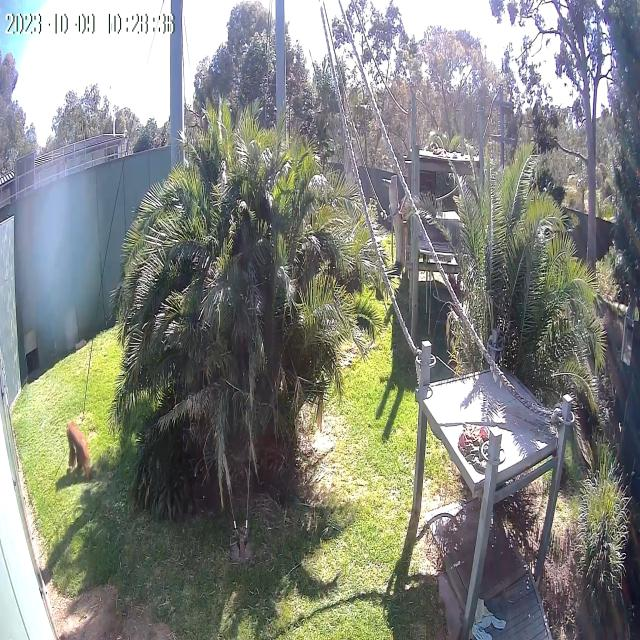orangutan: (66, 418, 92, 488)
